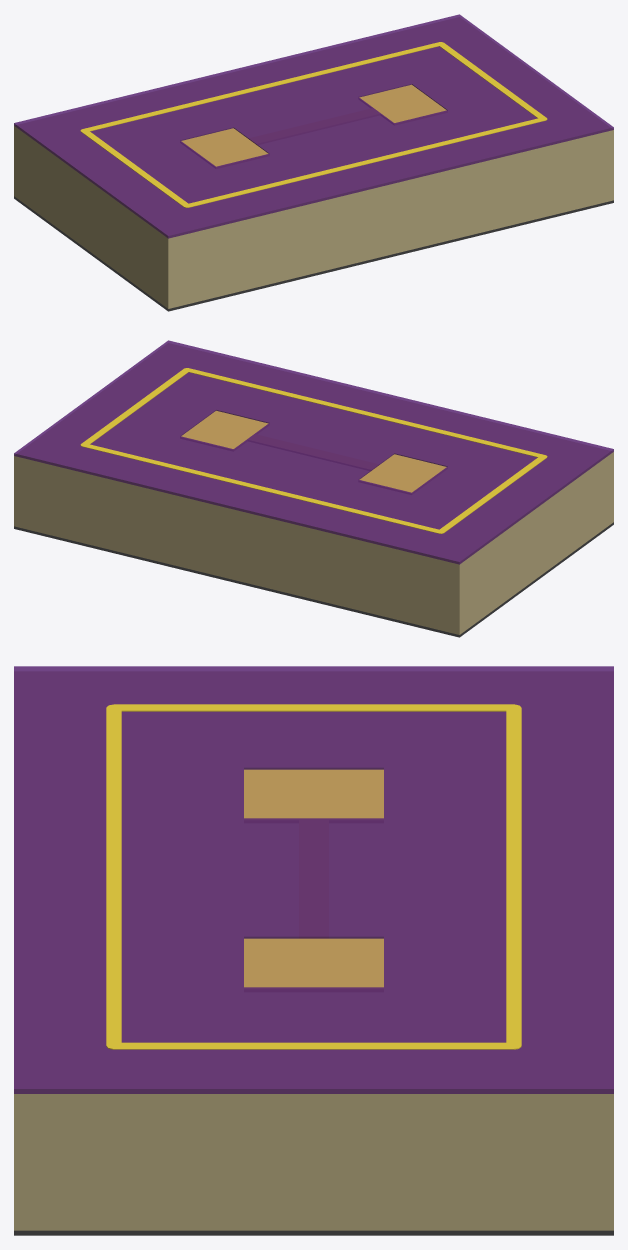
File: colours.glb
3 renders of one model, top to bottom at view 1: azimuth 30°, elevation 25°; view 2: azimuth 150°, elevation 25°; view 3: azimuth 270°, elevation 25°, orthographic. The views are drawn at different scales.
Parts seen in each view (by area): view 1: layer/SMT, layer/CORE, layer/SST, layer/TOP, layer/SMB; view 2: layer/SMT, layer/CORE, layer/SST, layer/TOP, layer/SMB; view 3: layer/SMT, layer/CORE, layer/SST, layer/TOP, layer/SMB.
Boxes of the visible parts, x1,y1,x2,y2 form: layer/SMT: [14, 14, 613, 238]; layer/CORE: [14, 17, 613, 308]; layer/SST: [80, 42, 547, 207]; layer/TOP: [180, 84, 446, 167]; layer/SMB: [14, 196, 613, 311]; layer/SMT: [14, 340, 613, 564]; layer/CORE: [14, 344, 613, 634]; layer/SST: [80, 368, 547, 533]; layer/TOP: [181, 410, 446, 493]; layer/SMB: [14, 522, 613, 637]; layer/SMT: [14, 666, 613, 1093]; layer/CORE: [14, 672, 613, 1230]; layer/SST: [106, 704, 521, 1049]; layer/TOP: [244, 769, 383, 991]; layer/SMB: [14, 1230, 613, 1235].
Size of the model in its own units: 0.01 by 0.00164 by 0.006.
